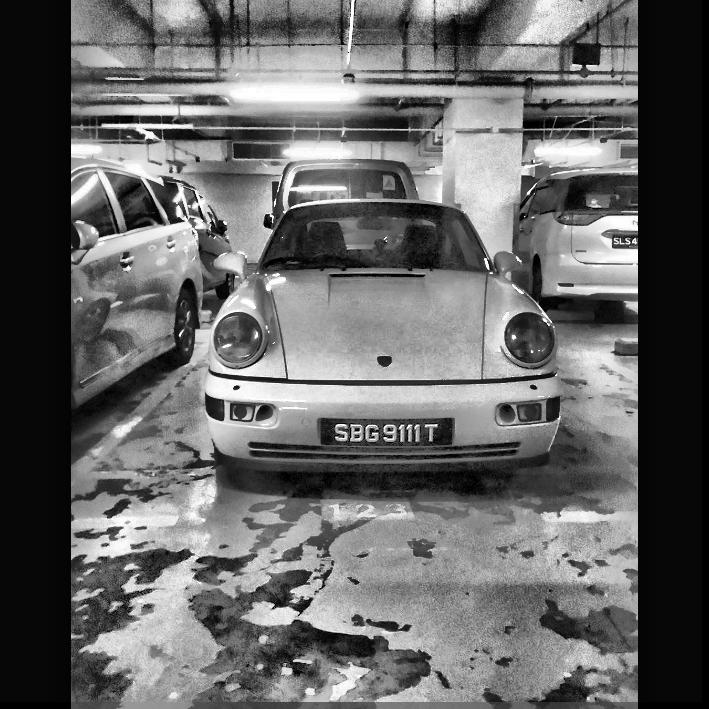License-Plates: (319, 418, 452, 446), (611, 235, 637, 247)
